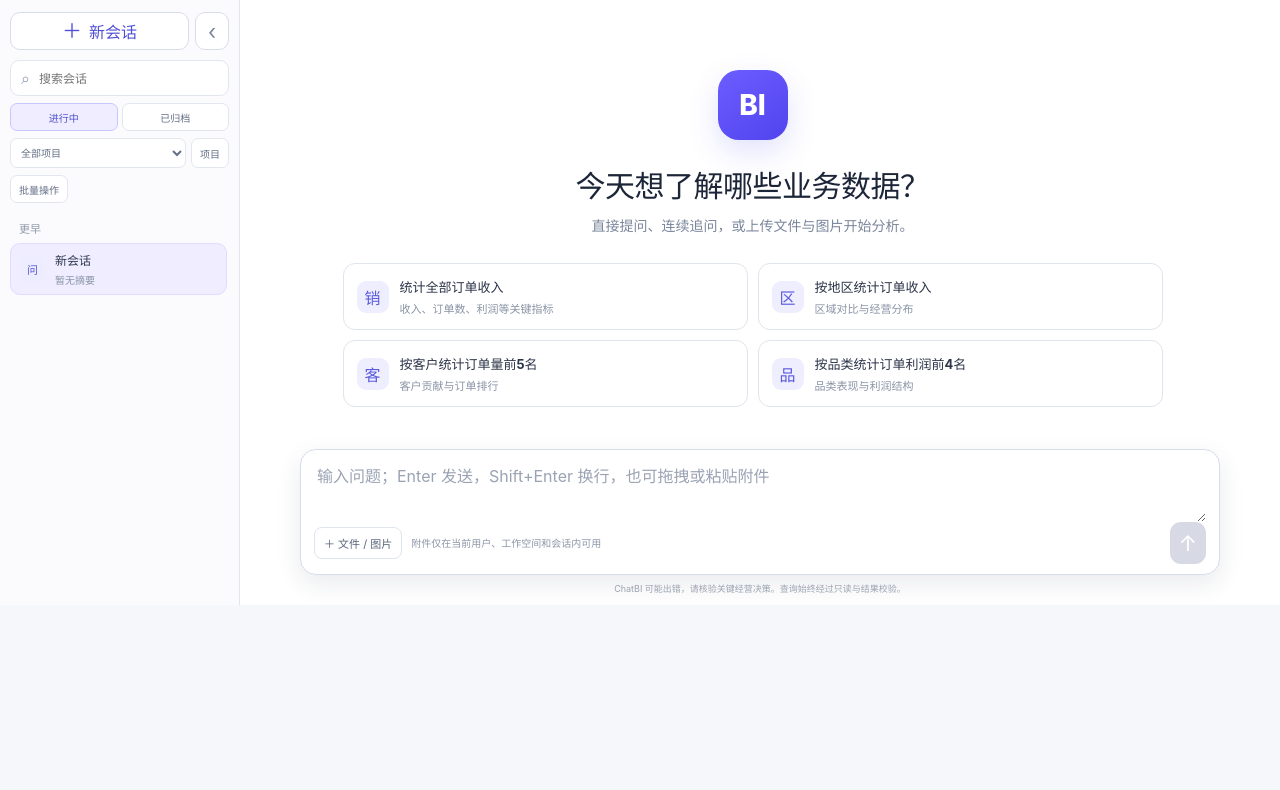
Test: 问数据真实多轮界面 › 从空状态提交自然语言问题并展示真实 API 结果
The width and height of the screenshot is (1280, 790).
Type "分析上半年各区域充电收入" into the text box named "输入业务问题" at (760, 491), box [314, 460, 1206, 522]
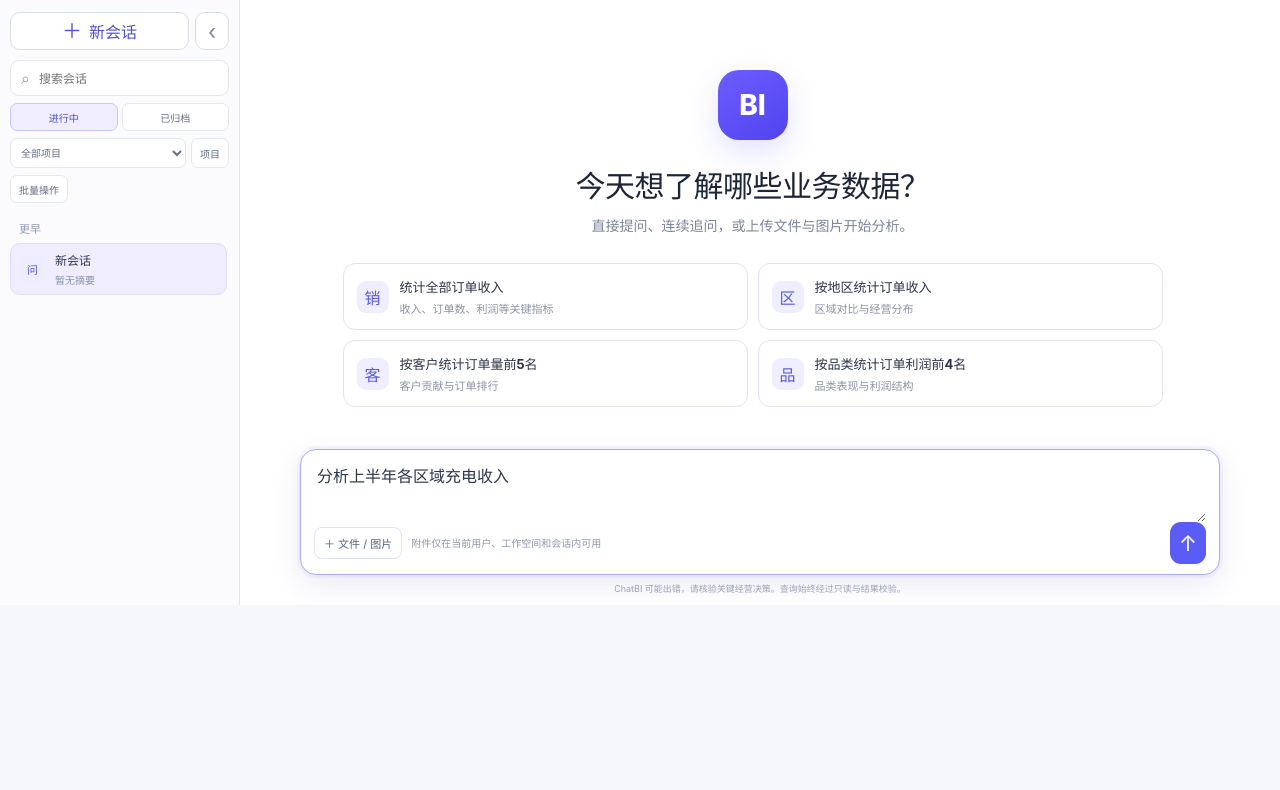
Click the button named "提交问题" at (1188, 543), box [1170, 522, 1206, 564]
(page scrolled)
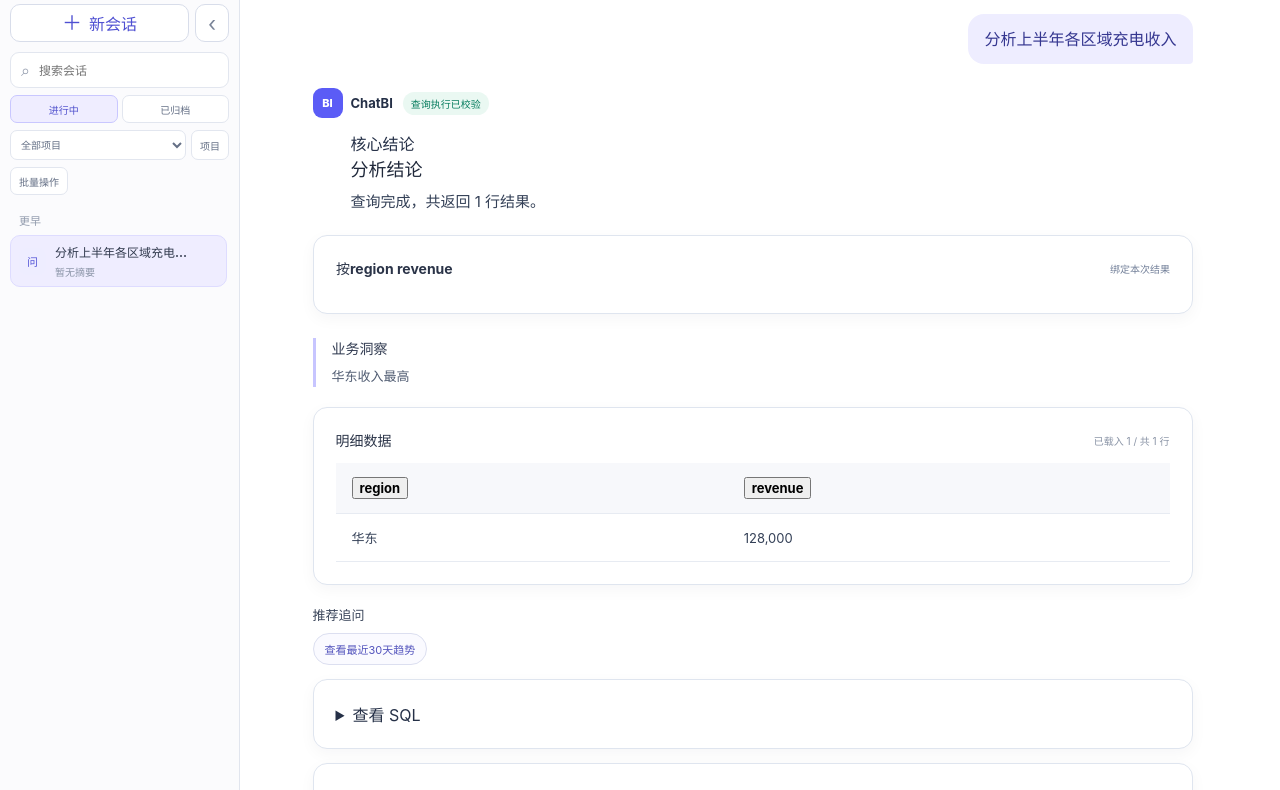
Result: the text "分析上半年各区域充电收入" below "更早" is shown at [55, 245, 199, 260]
Result: the heading "分析结论" is shown at [350, 159, 422, 180]
Result: the element named "真实查询结果图表" is shown at [312, 235, 1192, 314]
